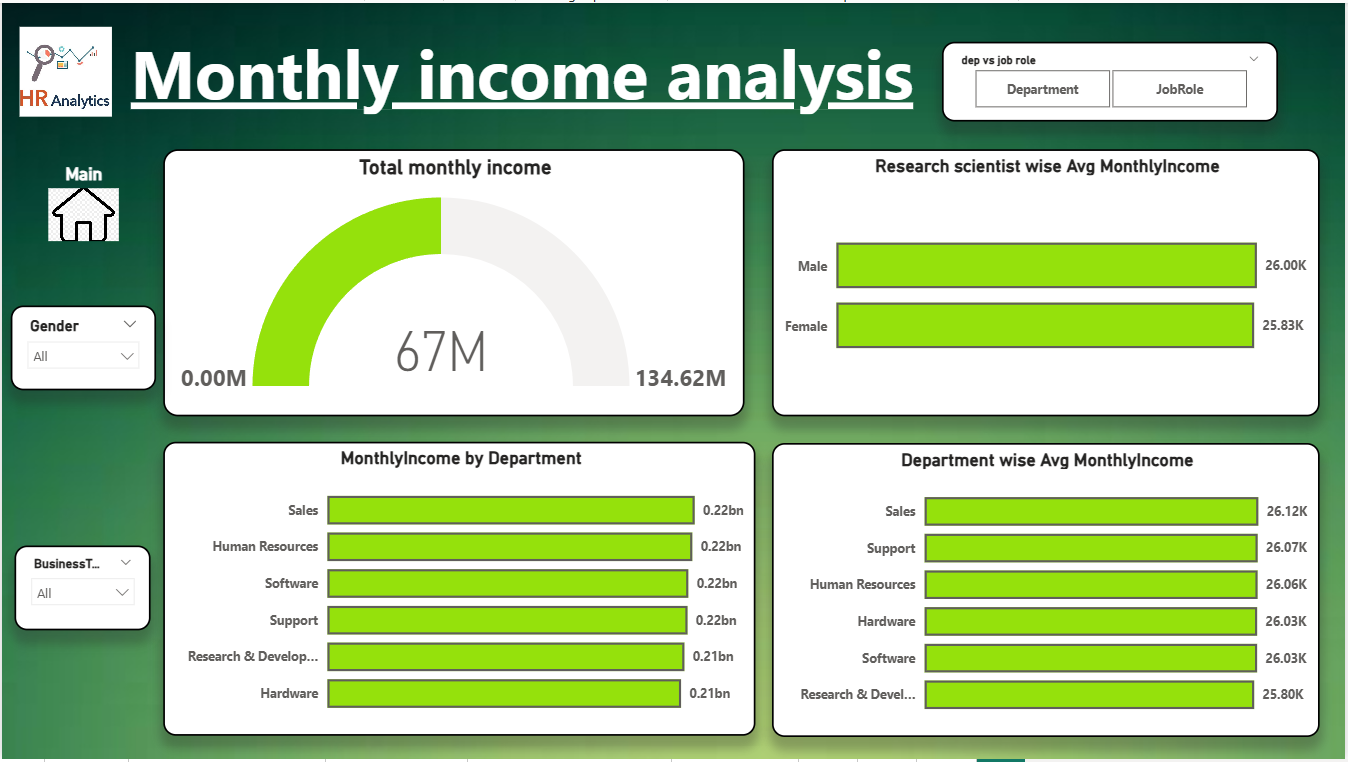

This screenshot's page, from the dashboard's own definition file:
{"tool":"powerbi","page":{"name":"3","canvas":[1280,720],"ordinal":3},"visuals":[{"type":"shape","box":[67.9,15.5,854.8,97.6],"z":0},{"type":"group","id":"g1","title":"Group 1","box":[8.3,288.1,138.1,309.5],"z":0,"group":"g2"},{"type":"gauge","title":"Total monthly income","fields":{"Y":["Sum(HR_2.MonthlyIncome)"]},"box":[153.6,139.3,553.6,254.8],"z":1000},{"type":"image","title":"Main","box":[39.3,152.4,77.4,79.8],"z":1000,"group":"g2"},{"type":"barChart","title":"Research scientist wise Avg MonthlyIncome","fields":{"Category":["HR_1.Gender"],"Y":["Avg(HR_2.MonthlyIncome)"]},"box":[733.3,139.3,521.4,254.8],"z":2000},{"type":"clusteredBarChart","title":"MonthlyIncome by Department","fields":{"Category":["HR_1.Department","HR_1.JobRole"],"Y":["Sum(HR_2.MonthlyIncome)"]},"box":[153.6,417.9,564.3,279.8],"z":3000},{"type":"clusteredBarChart","title":" Department wise Avg MonthlyIncome","fields":{"Category":["HR_1.Department","HR_1.JobRole"],"Y":["Avg(HR_2.MonthlyIncome)"]},"box":[733.3,419,521.4,279.8],"z":4000},{"type":"slicer","fields":{"Values":["Features.Features"]},"box":[895.2,36.9,320.2,76.2],"z":5000},{"type":"group","id":"g2","title":"Group 2","box":[8.3,152.4,138.1,445.2],"z":6000},{"type":"slicer","fields":{"Values":["HR_1.Gender"]},"box":[8.3,288.1,138.1,81],"z":6000,"group":"g1"},{"type":"image","box":[11.9,17.9,97.6,95.2],"z":7000},{"type":"slicer","fields":{"Values":["HR_1.BusinessTravel"]},"box":[11.9,516.7,129.8,81],"z":7000,"group":"g1"}]}

Visuals, with their boxes in screenshot pixels (x1, y1, x2, y2), scaled from the page's 1280x720 canvas onto the 1348x762 screenshot:
shape: bbox=[72, 16, 972, 120]
"Group 1" group: bbox=[9, 305, 154, 632]
"Total monthly income" gauge: bbox=[162, 147, 745, 417]
"Main" image: bbox=[41, 161, 123, 246]
"Research scientist wise Avg MonthlyIncome" barChart: bbox=[772, 147, 1321, 417]
"MonthlyIncome by Department" clusteredBarChart: bbox=[162, 442, 756, 738]
" Department wise Avg MonthlyIncome" clusteredBarChart: bbox=[772, 443, 1321, 740]
slicer - Features.Features: bbox=[943, 39, 1280, 120]
"Group 2" group: bbox=[9, 161, 154, 632]
slicer - HR_1.Gender: bbox=[9, 305, 154, 391]
image: bbox=[13, 19, 115, 120]
slicer - HR_1.BusinessTravel: bbox=[13, 547, 149, 633]
